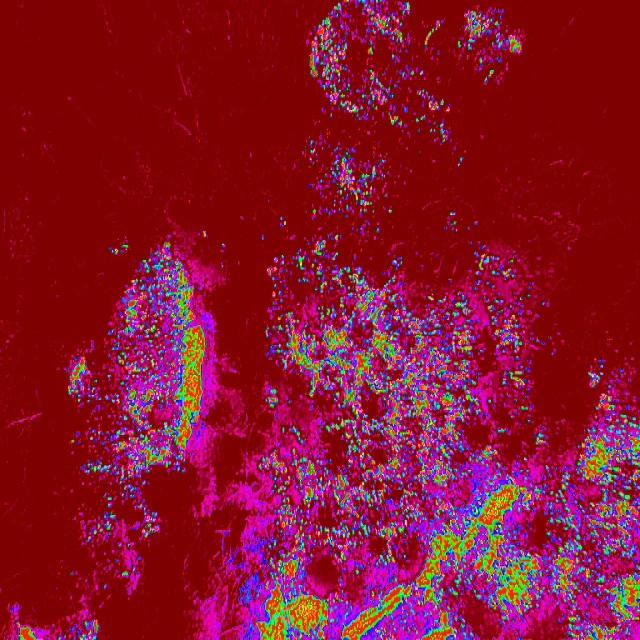fire: (256, 246, 538, 640), (107, 234, 215, 482), (65, 353, 159, 573), (575, 364, 640, 640), (308, 0, 448, 124), (306, 141, 397, 230), (538, 432, 576, 640), (458, 0, 526, 91), (13, 612, 98, 640)
